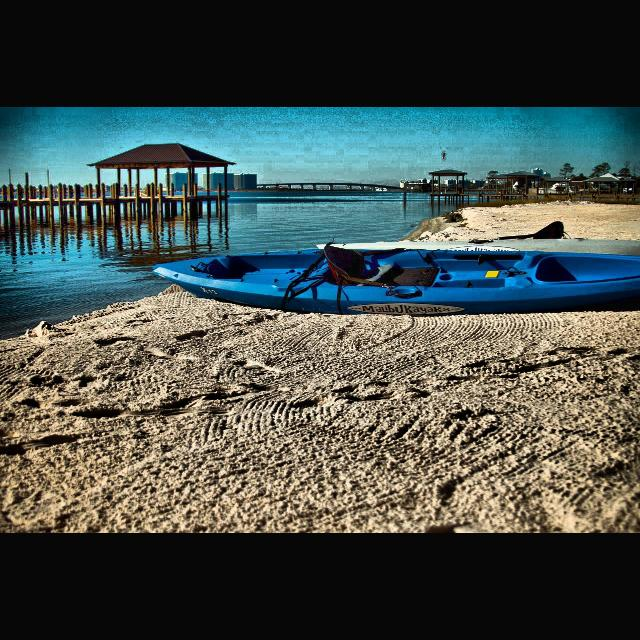kayak: (152, 250, 640, 314)
